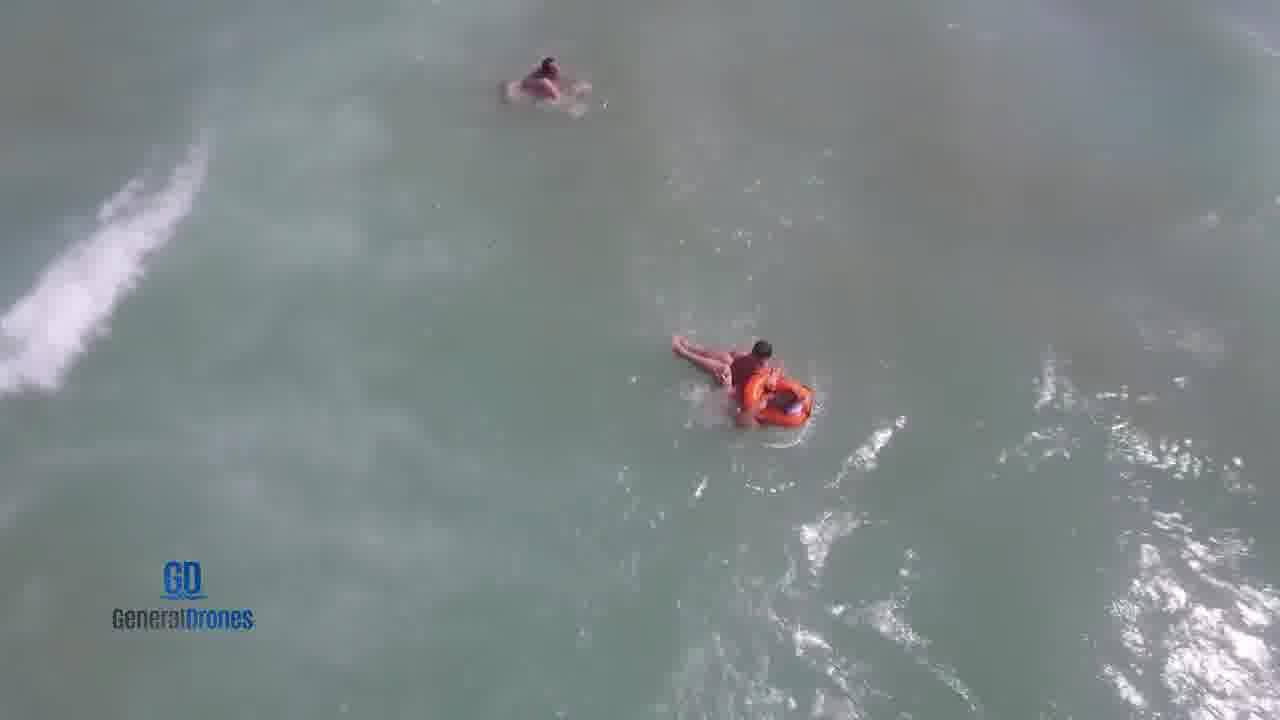human: (667, 337, 811, 424), (511, 53, 579, 101), (738, 336, 792, 375)
